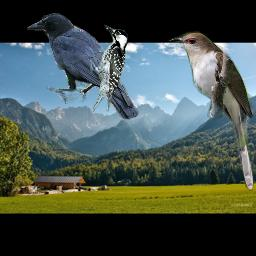Crow: (27, 13, 140, 123)
Cuckoo: (168, 31, 254, 191)
Woodpecker: (90, 24, 128, 112)
